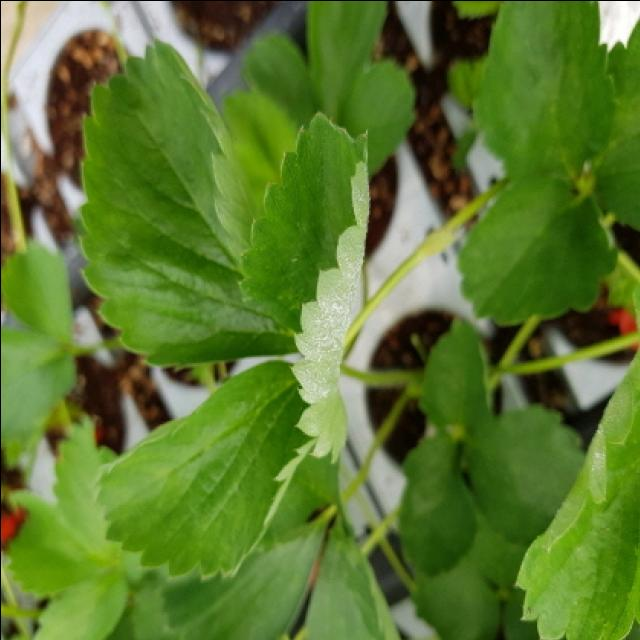Powdery Mildew Leaf: (237, 111, 369, 464)
